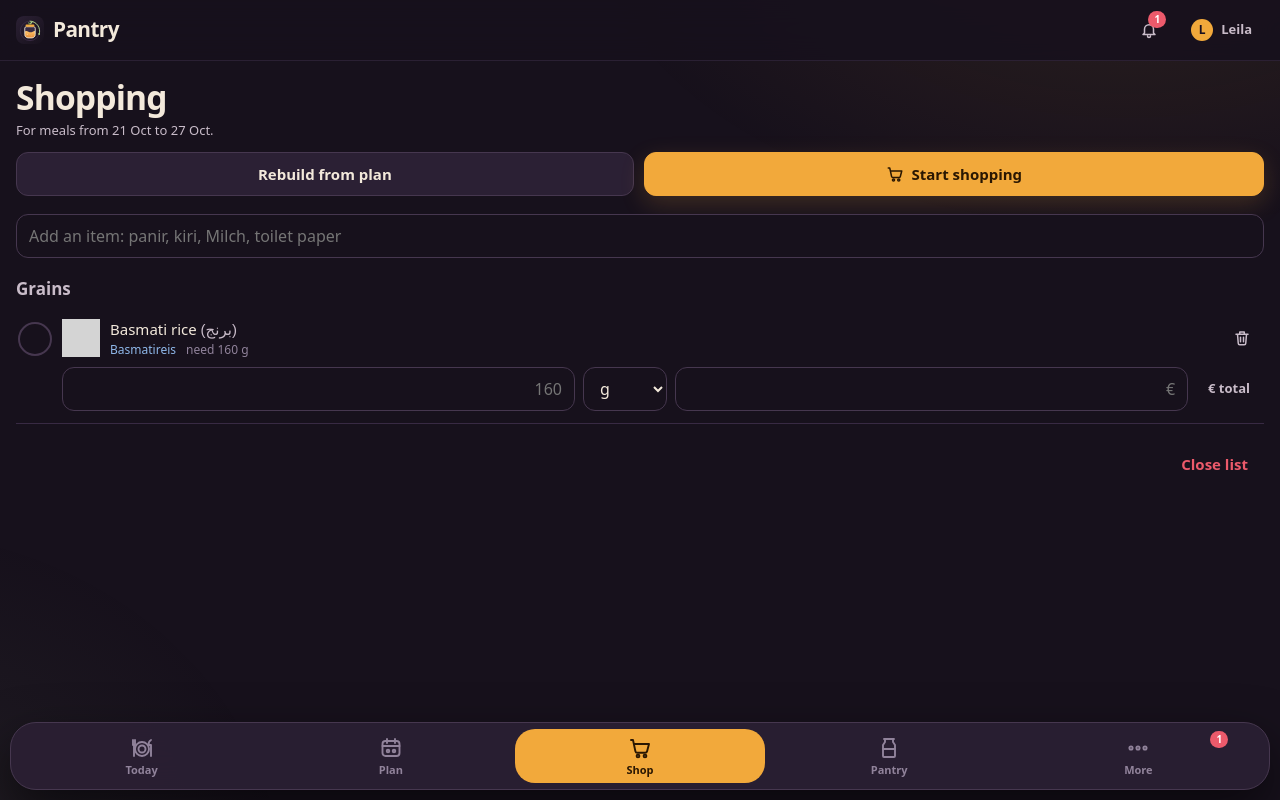
pages › uses the phone shell under /m
Click the button "More 1" at {"x": 1138, "y": 756}, box [1014,728,1263,783]
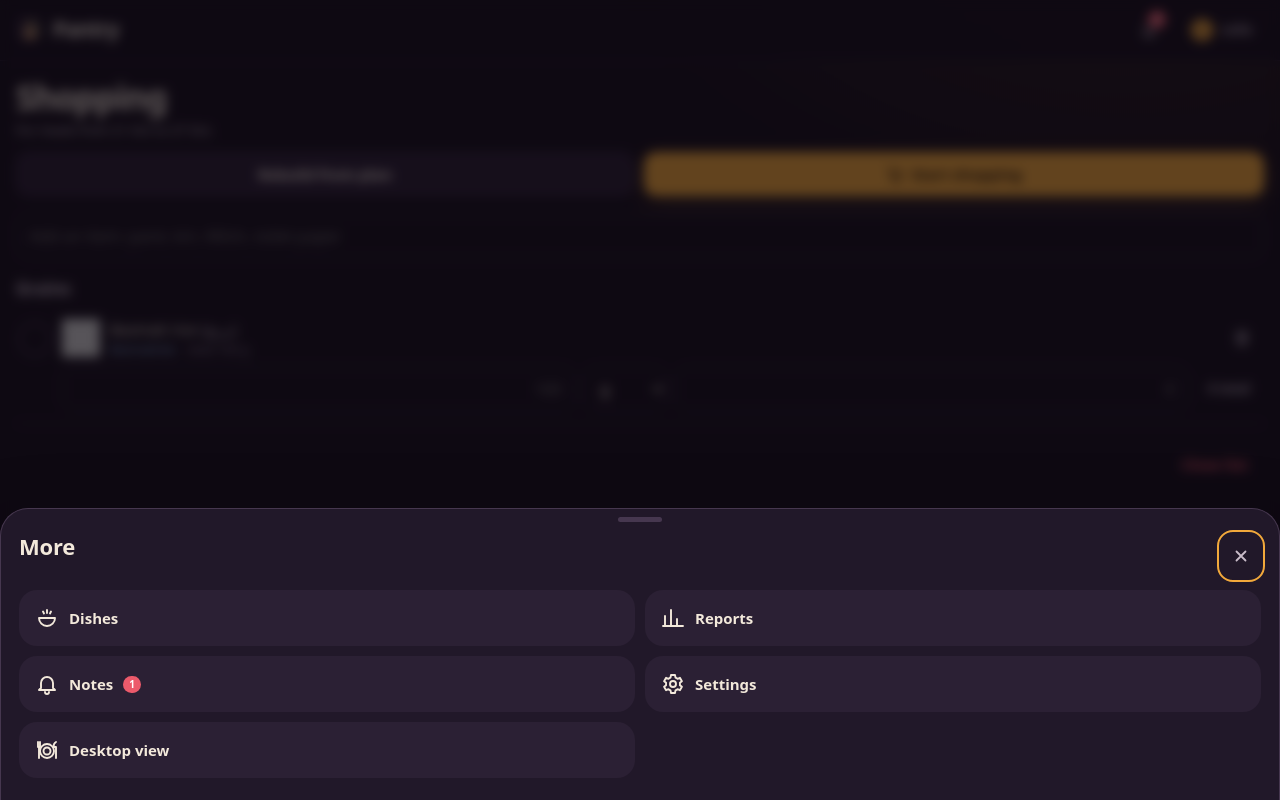
Expected: the link "Desktop view" is shown, [19,722,635,778]
